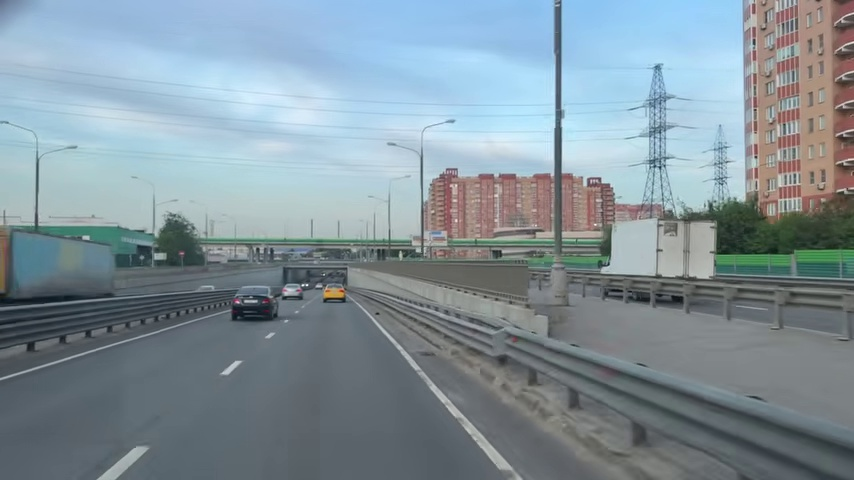apagada: (113, 444, 149, 477), (63, 140, 79, 154), (384, 138, 400, 152)
